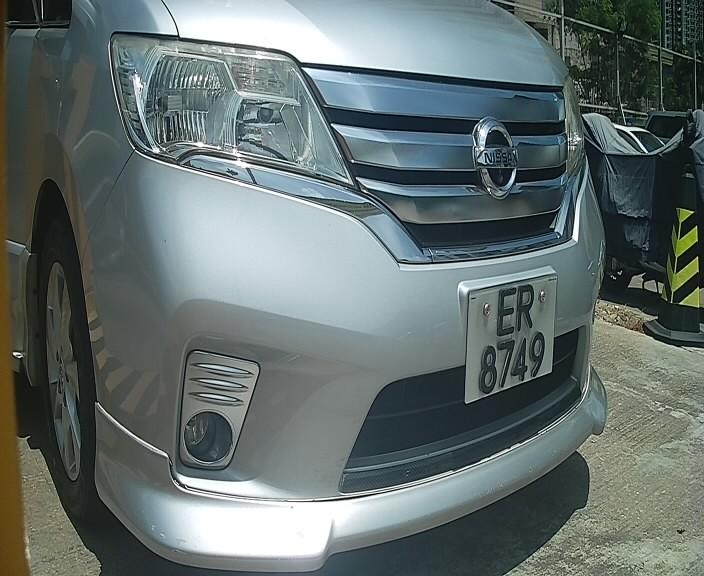License Plate: (459, 265, 560, 409)
